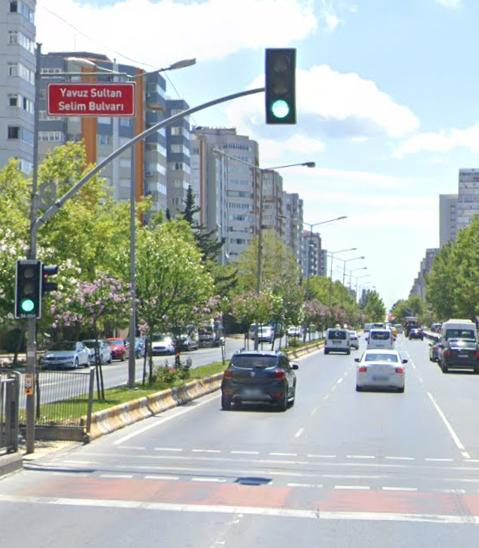greenlight: (265, 49, 295, 123), (17, 261, 40, 320)
